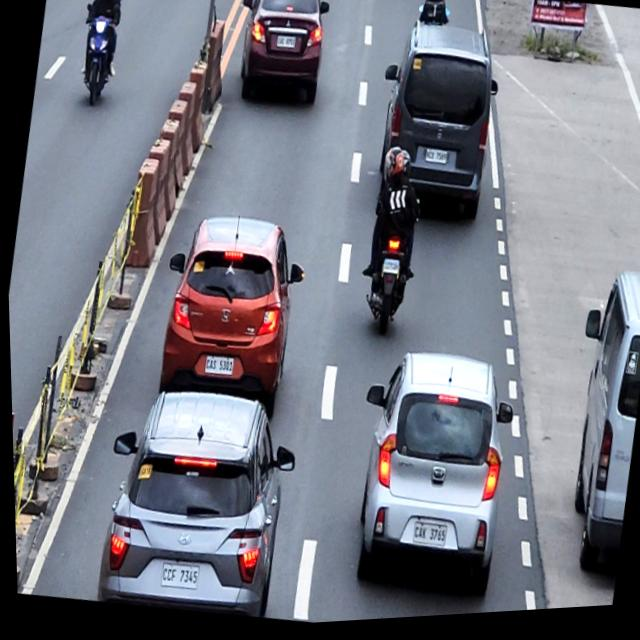Car: (83, 376, 305, 630), (331, 345, 525, 623), (143, 203, 317, 438), (542, 269, 640, 588), (362, 24, 509, 235), (225, 0, 338, 120)
License-Plate: (155, 561, 197, 595), (408, 525, 445, 555), (201, 356, 233, 379), (421, 150, 449, 173), (378, 260, 399, 281), (275, 36, 298, 55)
Motorcycle: (351, 192, 427, 348), (71, 0, 126, 113), (416, 6, 452, 36)
